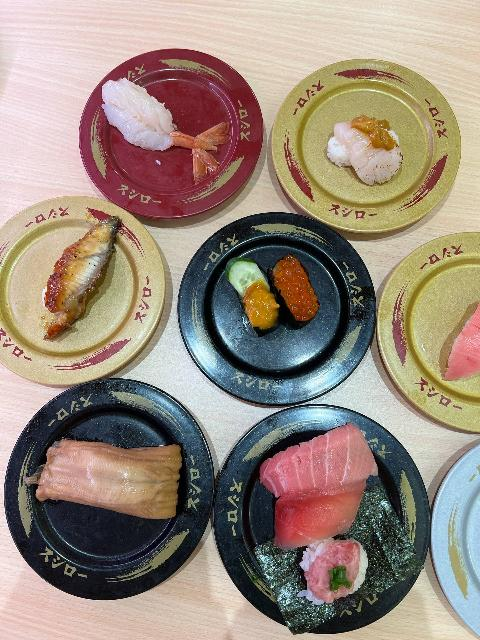janback: (239, 413, 433, 619), (202, 216, 381, 397), (14, 408, 208, 575)
jangold: (0, 199, 162, 362), (276, 80, 453, 218), (392, 242, 480, 410)
janred: (76, 60, 256, 210)
janwhite: (422, 429, 480, 630)
